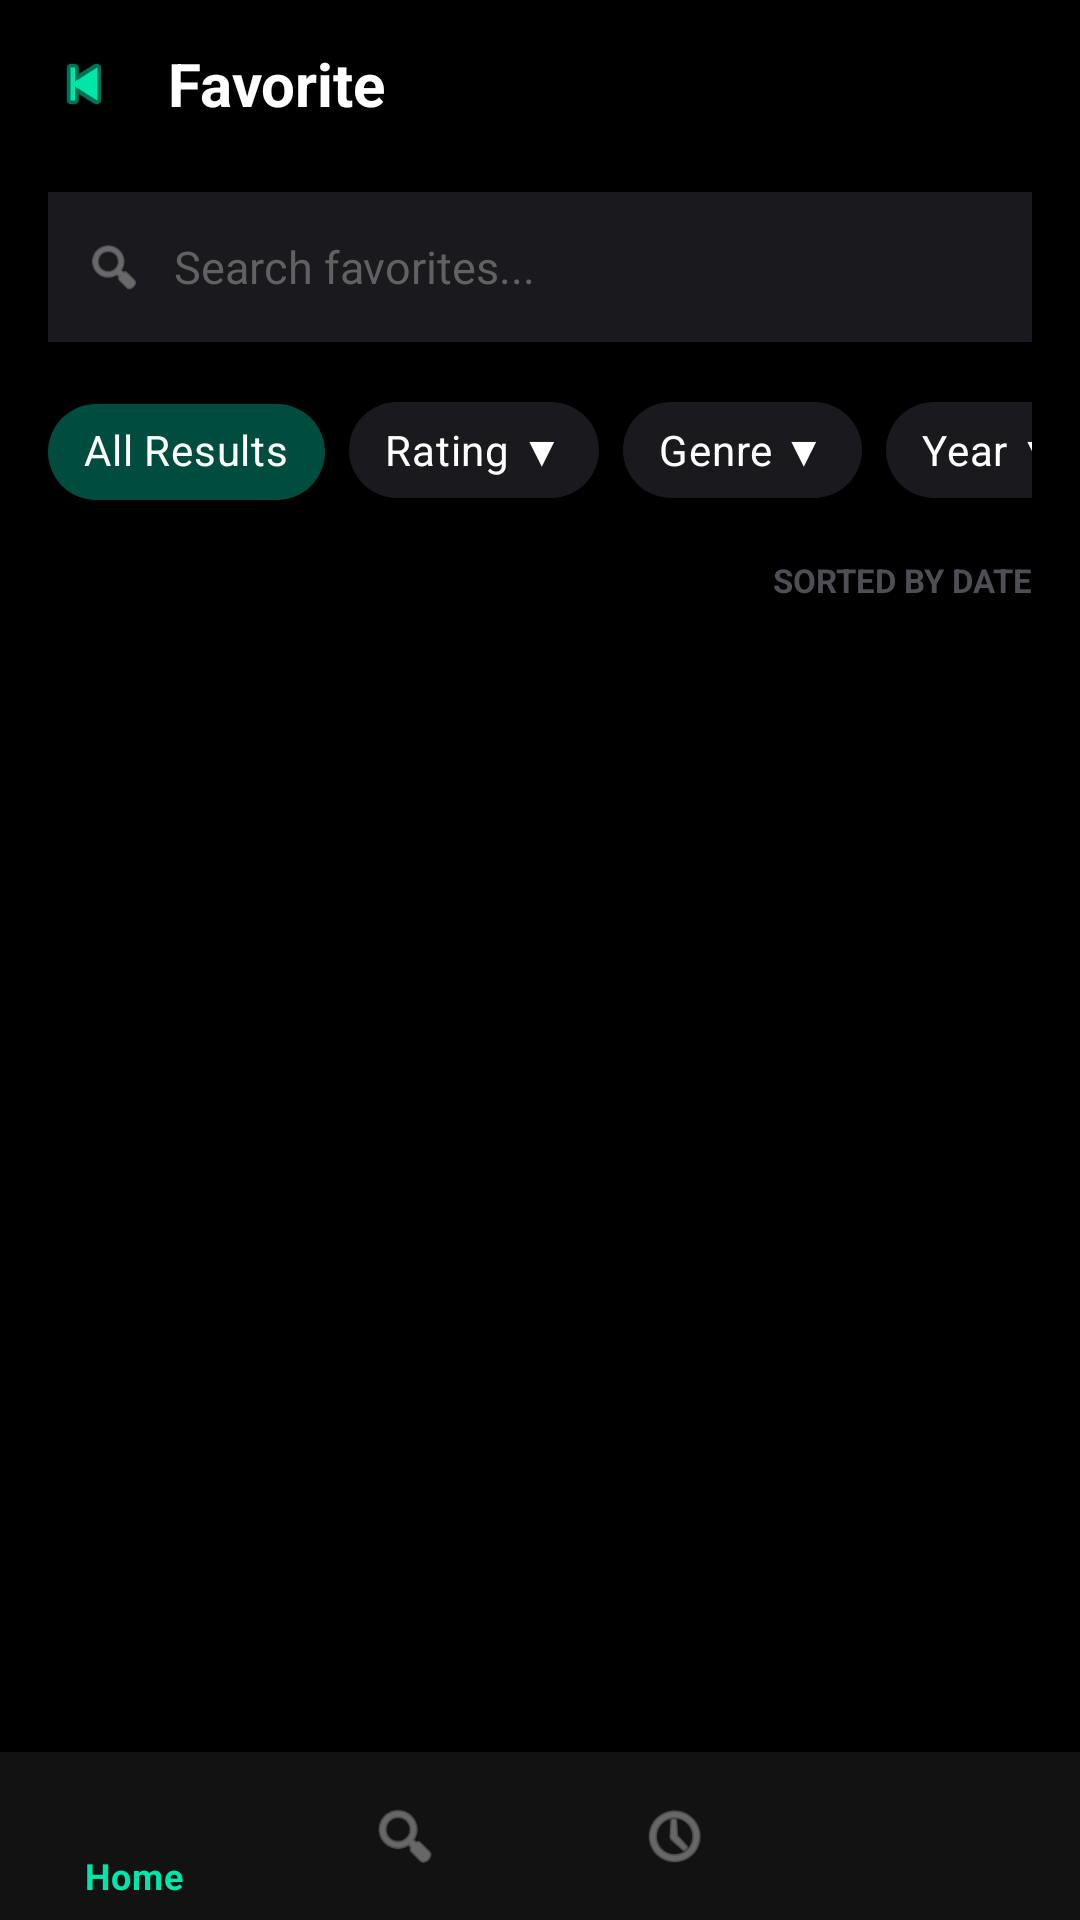

Screen size 1080w x 1920h. Icon name, then its box in pixels as (x1, y1, x2, y2):
Back: (67, 64, 101, 104)
